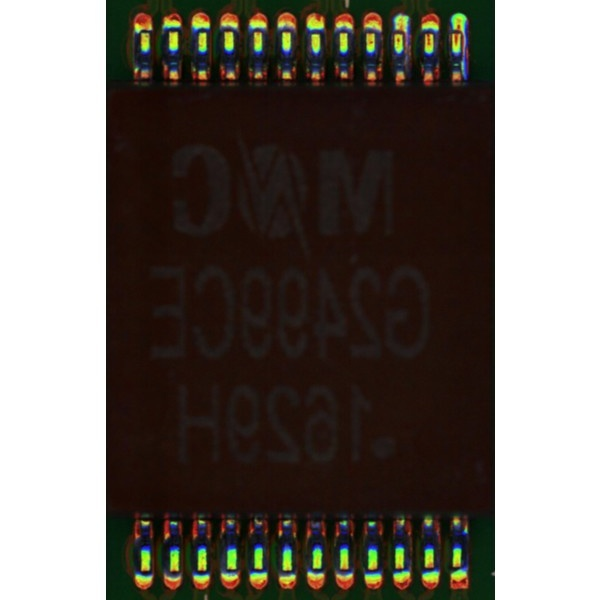Bad_podu: (453, 22, 461, 39)
Bad_qiaojiao: (461, 30, 468, 80)
